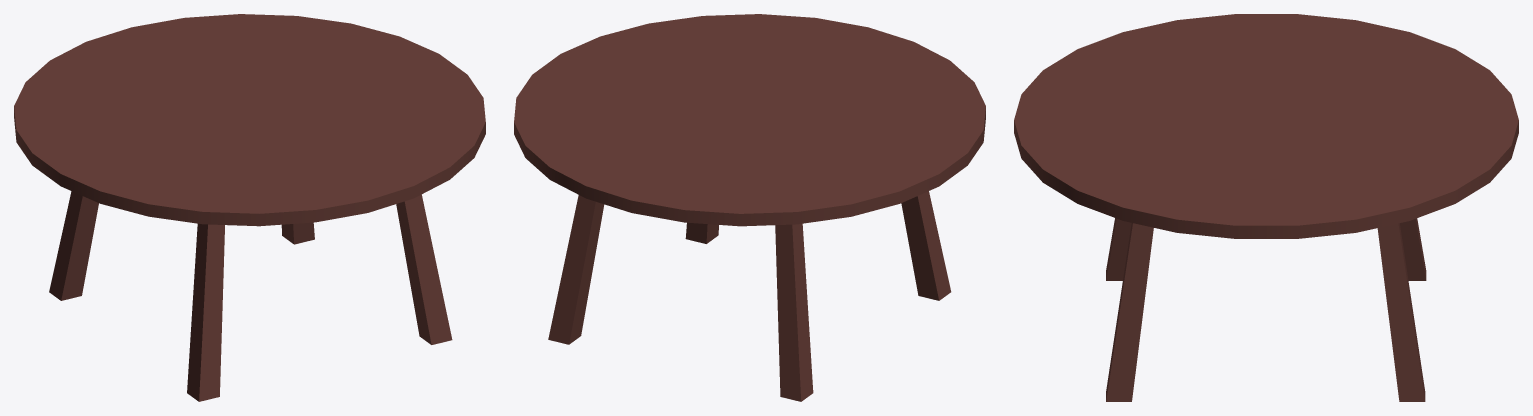
Rendered from stolic.fbx.
3 renders of one model, left to right at view 1: azimuth 30°, elevation 25°; view 2: azimuth 150°, elevation 25°; view 3: azimuth 270°, elevation 25°, orthographic. The views are drawn at different scales.
Visible parts, largest first — view 1: Circle; view 2: Circle; view 3: Circle.
Part boxes in pixels (left/top/right/bottom): Circle: left=14, top=14, right=485, bottom=401; Circle: left=514, top=14, right=985, bottom=401; Circle: left=1014, top=14, right=1518, bottom=401.
Bounding box in the file's own units: 67.71 × 32.17 × 68.21.
Materials: 1 (1 with a texture image).
